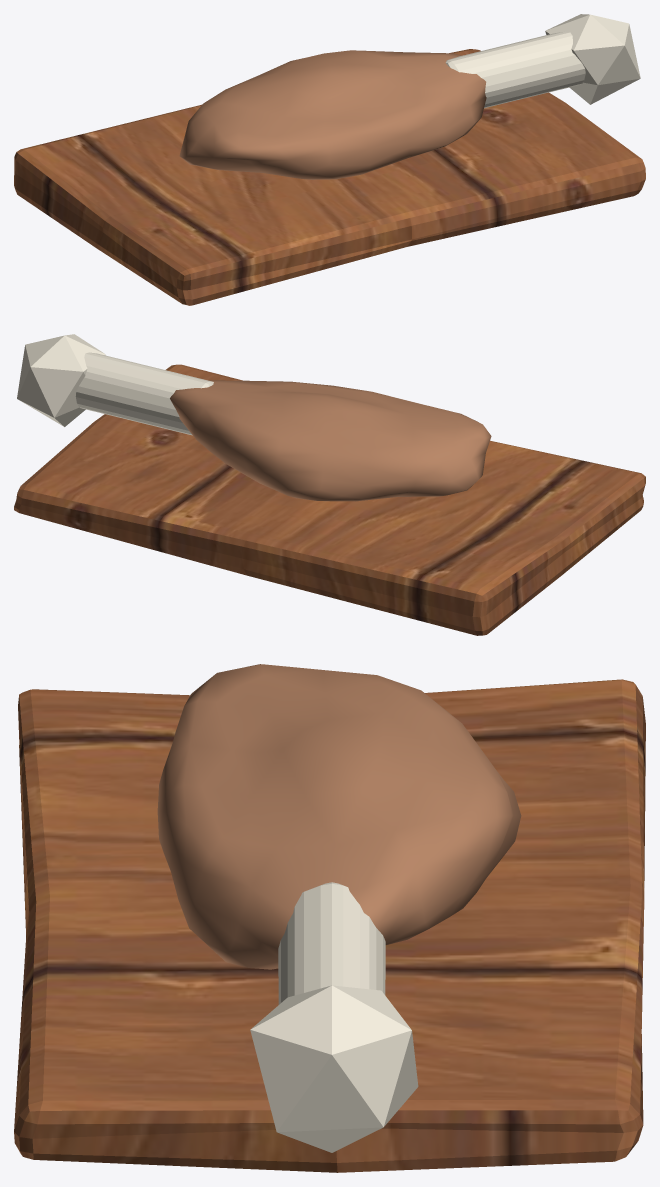
File: dish_seared_critter.glb
3 views of the same model, one above another, from view 1: azimuth 30°, elevation 25°; view 2: azimuth 150°, elevation 25°; view 3: azimuth 270°, elevation 25° (orthographic). The views are drawn at different scales.
Visible parts, largest first — view 1: model; view 2: model; view 3: model.
Part boxes in pixels (x1,y1,x2,y2): model: [14, 14, 645, 305]; model: [14, 334, 645, 635]; model: [14, 664, 645, 1172].
Size of the model in its own units: 0.37 by 0.0802 by 0.204.
3 materials, 1 textured.
